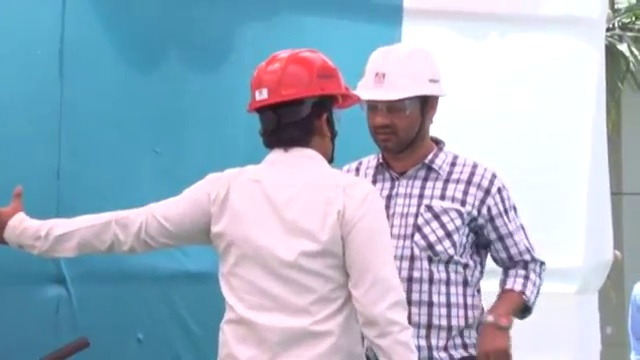helmet: (241, 46, 359, 112), (354, 41, 448, 101)
helmet_on: (239, 45, 360, 169), (353, 41, 448, 173)
person: (1, 46, 422, 357), (341, 40, 548, 360)
